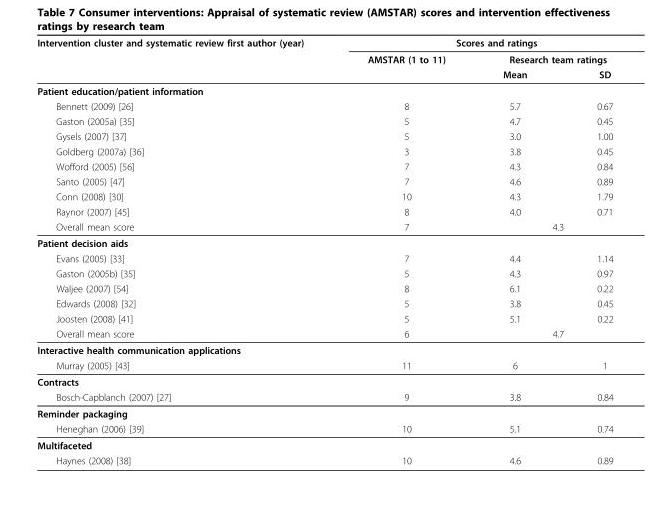table: (36, 36, 612, 465)
table column: (36, 36, 335, 465), (335, 36, 473, 465), (473, 36, 561, 465), (561, 36, 612, 465)
table column header: (36, 36, 612, 82)
table projected row header: (36, 82, 612, 98), (36, 234, 612, 250), (36, 341, 612, 357), (36, 373, 612, 389), (36, 404, 612, 420), (36, 436, 612, 452)
table row: (36, 50, 612, 66), (36, 66, 612, 82), (36, 82, 612, 98), (36, 218, 612, 234), (36, 234, 612, 250), (36, 325, 612, 341), (36, 341, 612, 357), (36, 357, 612, 373), (36, 373, 612, 389), (36, 404, 612, 420), (36, 420, 612, 436), (36, 436, 612, 452), (36, 98, 612, 113), (36, 113, 612, 128), (36, 128, 612, 143), (36, 143, 612, 158), (36, 158, 612, 173), (36, 173, 612, 188), (36, 188, 612, 203), (36, 203, 612, 218), (36, 250, 612, 265), (36, 265, 612, 280), (36, 280, 612, 295), (36, 295, 612, 310), (36, 310, 612, 325), (36, 389, 612, 404), (36, 36, 612, 50), (36, 452, 612, 465)
table spanning cell: (36, 36, 335, 82), (335, 50, 473, 82), (335, 36, 612, 50), (473, 50, 612, 66), (473, 218, 612, 234), (473, 325, 612, 341)
